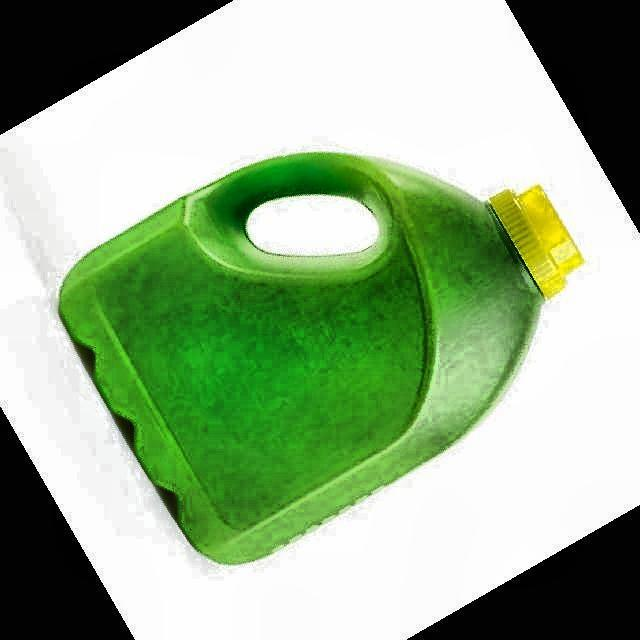plastic: (60, 152, 582, 563)
